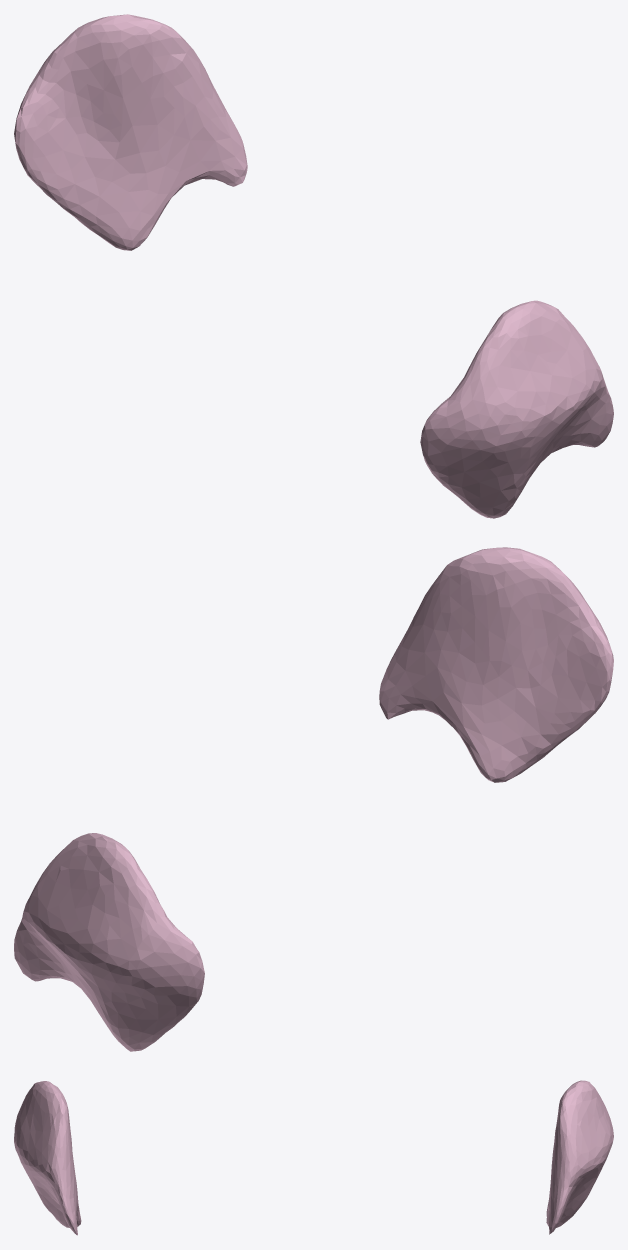
3 views of the same model, one above another, from view 1: azimuth 30°, elevation 25°; view 2: azimuth 150°, elevation 25°; view 3: azimuth 270°, elevation 25° (orthographic). The views are drawn at different scales.
Visible parts, largest first — view 1: 101.obj; view 2: 101.obj; view 3: 101.obj.
Part boxes in pixels (left/top/right/bottom): 101.obj: left=14, top=14, right=613, bottom=518; 101.obj: left=14, top=547, right=613, bottom=1051; 101.obj: left=14, top=1080, right=613, bottom=1235.
Size of the model in its own units: 1629 by 1621 by 6060.
